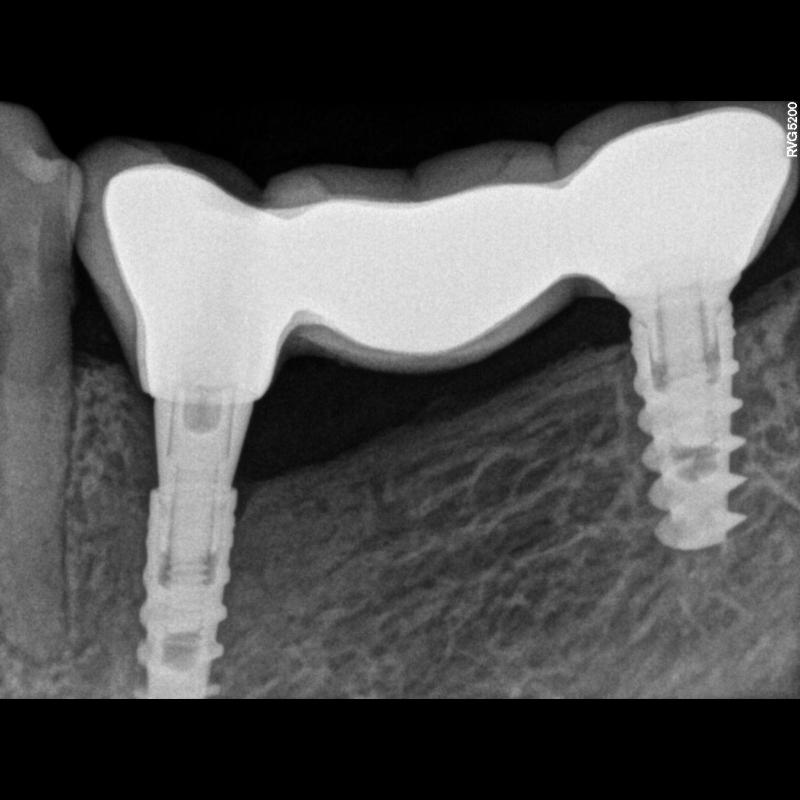ADIN: (619, 290, 771, 548), (106, 470, 272, 698)
